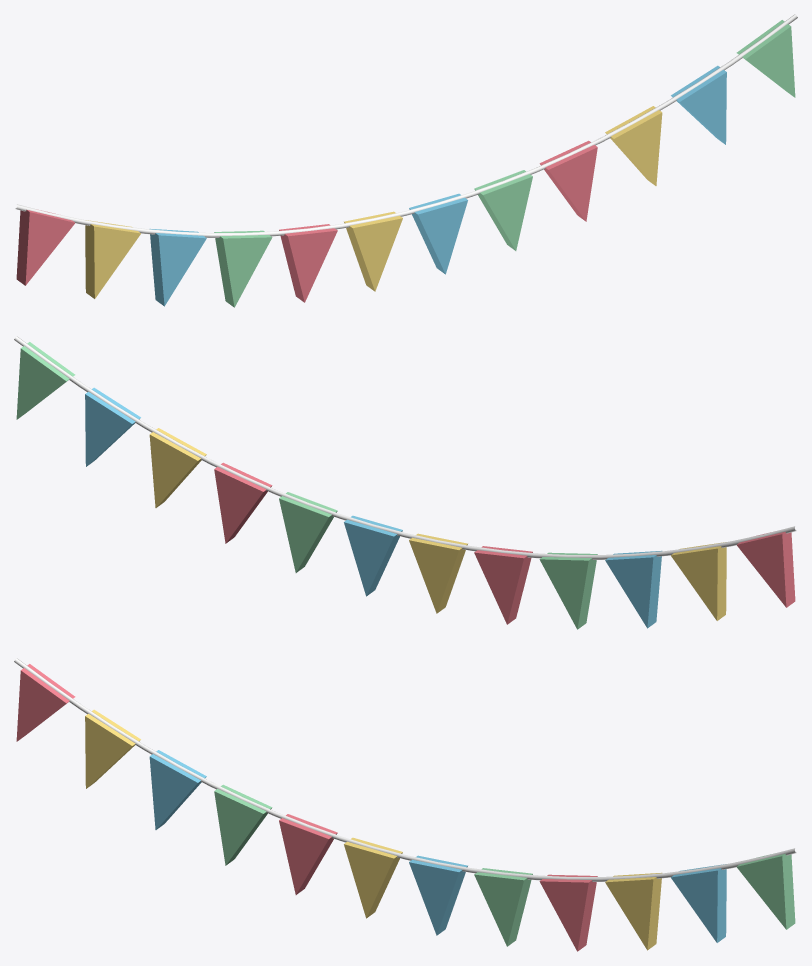
Rendered from PumpBunting.glb.
The picture shows the model from 3 angles, top to bottom: view 1: azimuth 30°, elevation 25°; view 2: azimuth 150°, elevation 25°; view 3: azimuth 330°, elevation 25°; orthographic projection.
Visible parts, largest first — view 1: FlagA, FlagB, FlagC, FlagD, String; view 2: FlagA, FlagB, FlagC, FlagD, String; view 3: FlagD, FlagC, FlagB, FlagA, String.
Boxes of the visible parts, x1=… form: FlagA: x1=16, y1=140, x2=597, y2=302; FlagB: x1=85, y1=106, x2=662, y2=298; FlagC: x1=150, y1=65, x2=726, y2=306; FlagD: x1=214, y1=20, x2=795, y2=307; String: x1=15, y1=14, x2=797, y2=237; FlagA: x1=214, y1=462, x2=795, y2=624; FlagB: x1=149, y1=428, x2=726, y2=620; FlagC: x1=85, y1=387, x2=661, y2=628; FlagD: x1=16, y1=342, x2=597, y2=629; String: x1=14, y1=336, x2=796, y2=559; FlagD: x1=214, y1=784, x2=795, y2=946; FlagC: x1=149, y1=750, x2=726, y2=942; FlagB: x1=85, y1=709, x2=661, y2=950; FlagA: x1=16, y1=664, x2=597, y2=951; String: x1=14, y1=658, x2=796, y2=881.
Bounding box in the file's own units: 24.06 × 5.02 × 0.48.
